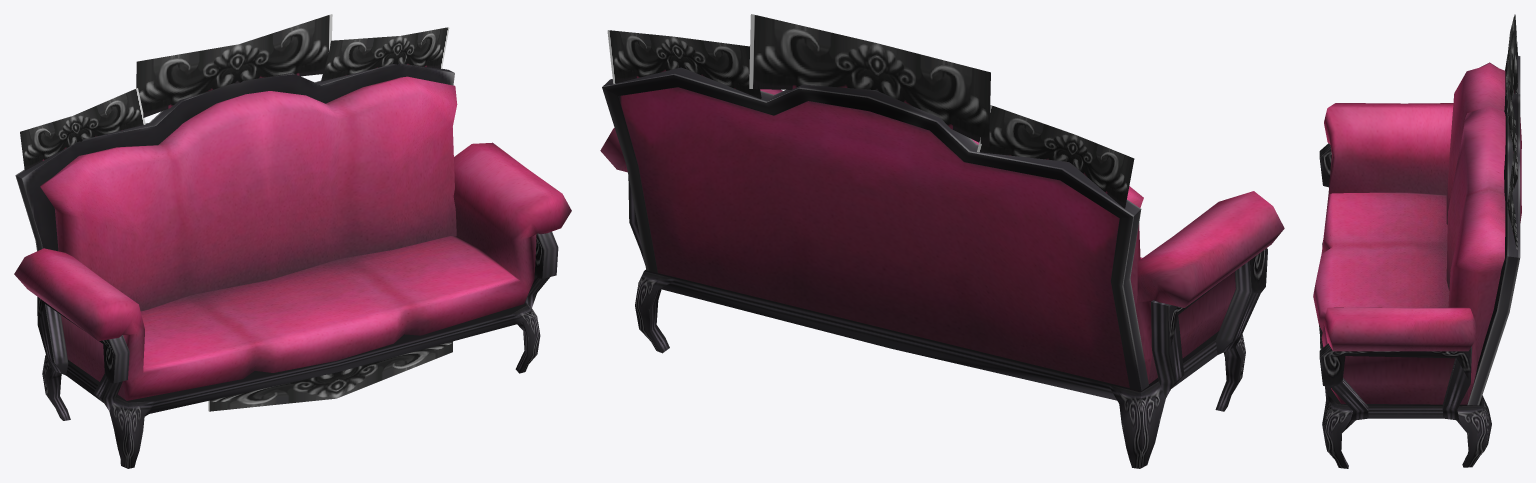
File: LingerieSofa_HD.fbx
3 views of the same model, side by side, from view 1: azimuth 30°, elevation 25°; view 2: azimuth 150°, elevation 25°; view 3: azimuth 270°, elevation 25° (orthographic). The views are drawn at different scales.
Visible parts, largest first — view 1: LingerieSofa; view 2: LingerieSofa; view 3: LingerieSofa.
Boxes of the visible parts, left/top/right/bottom form: LingerieSofa: left=14, top=14, right=571, bottom=468; LingerieSofa: left=600, top=14, right=1284, bottom=468; LingerieSofa: left=1313, top=14, right=1521, bottom=468.
Size of the model in its own units: 1.97 by 1.23 by 0.7715.
